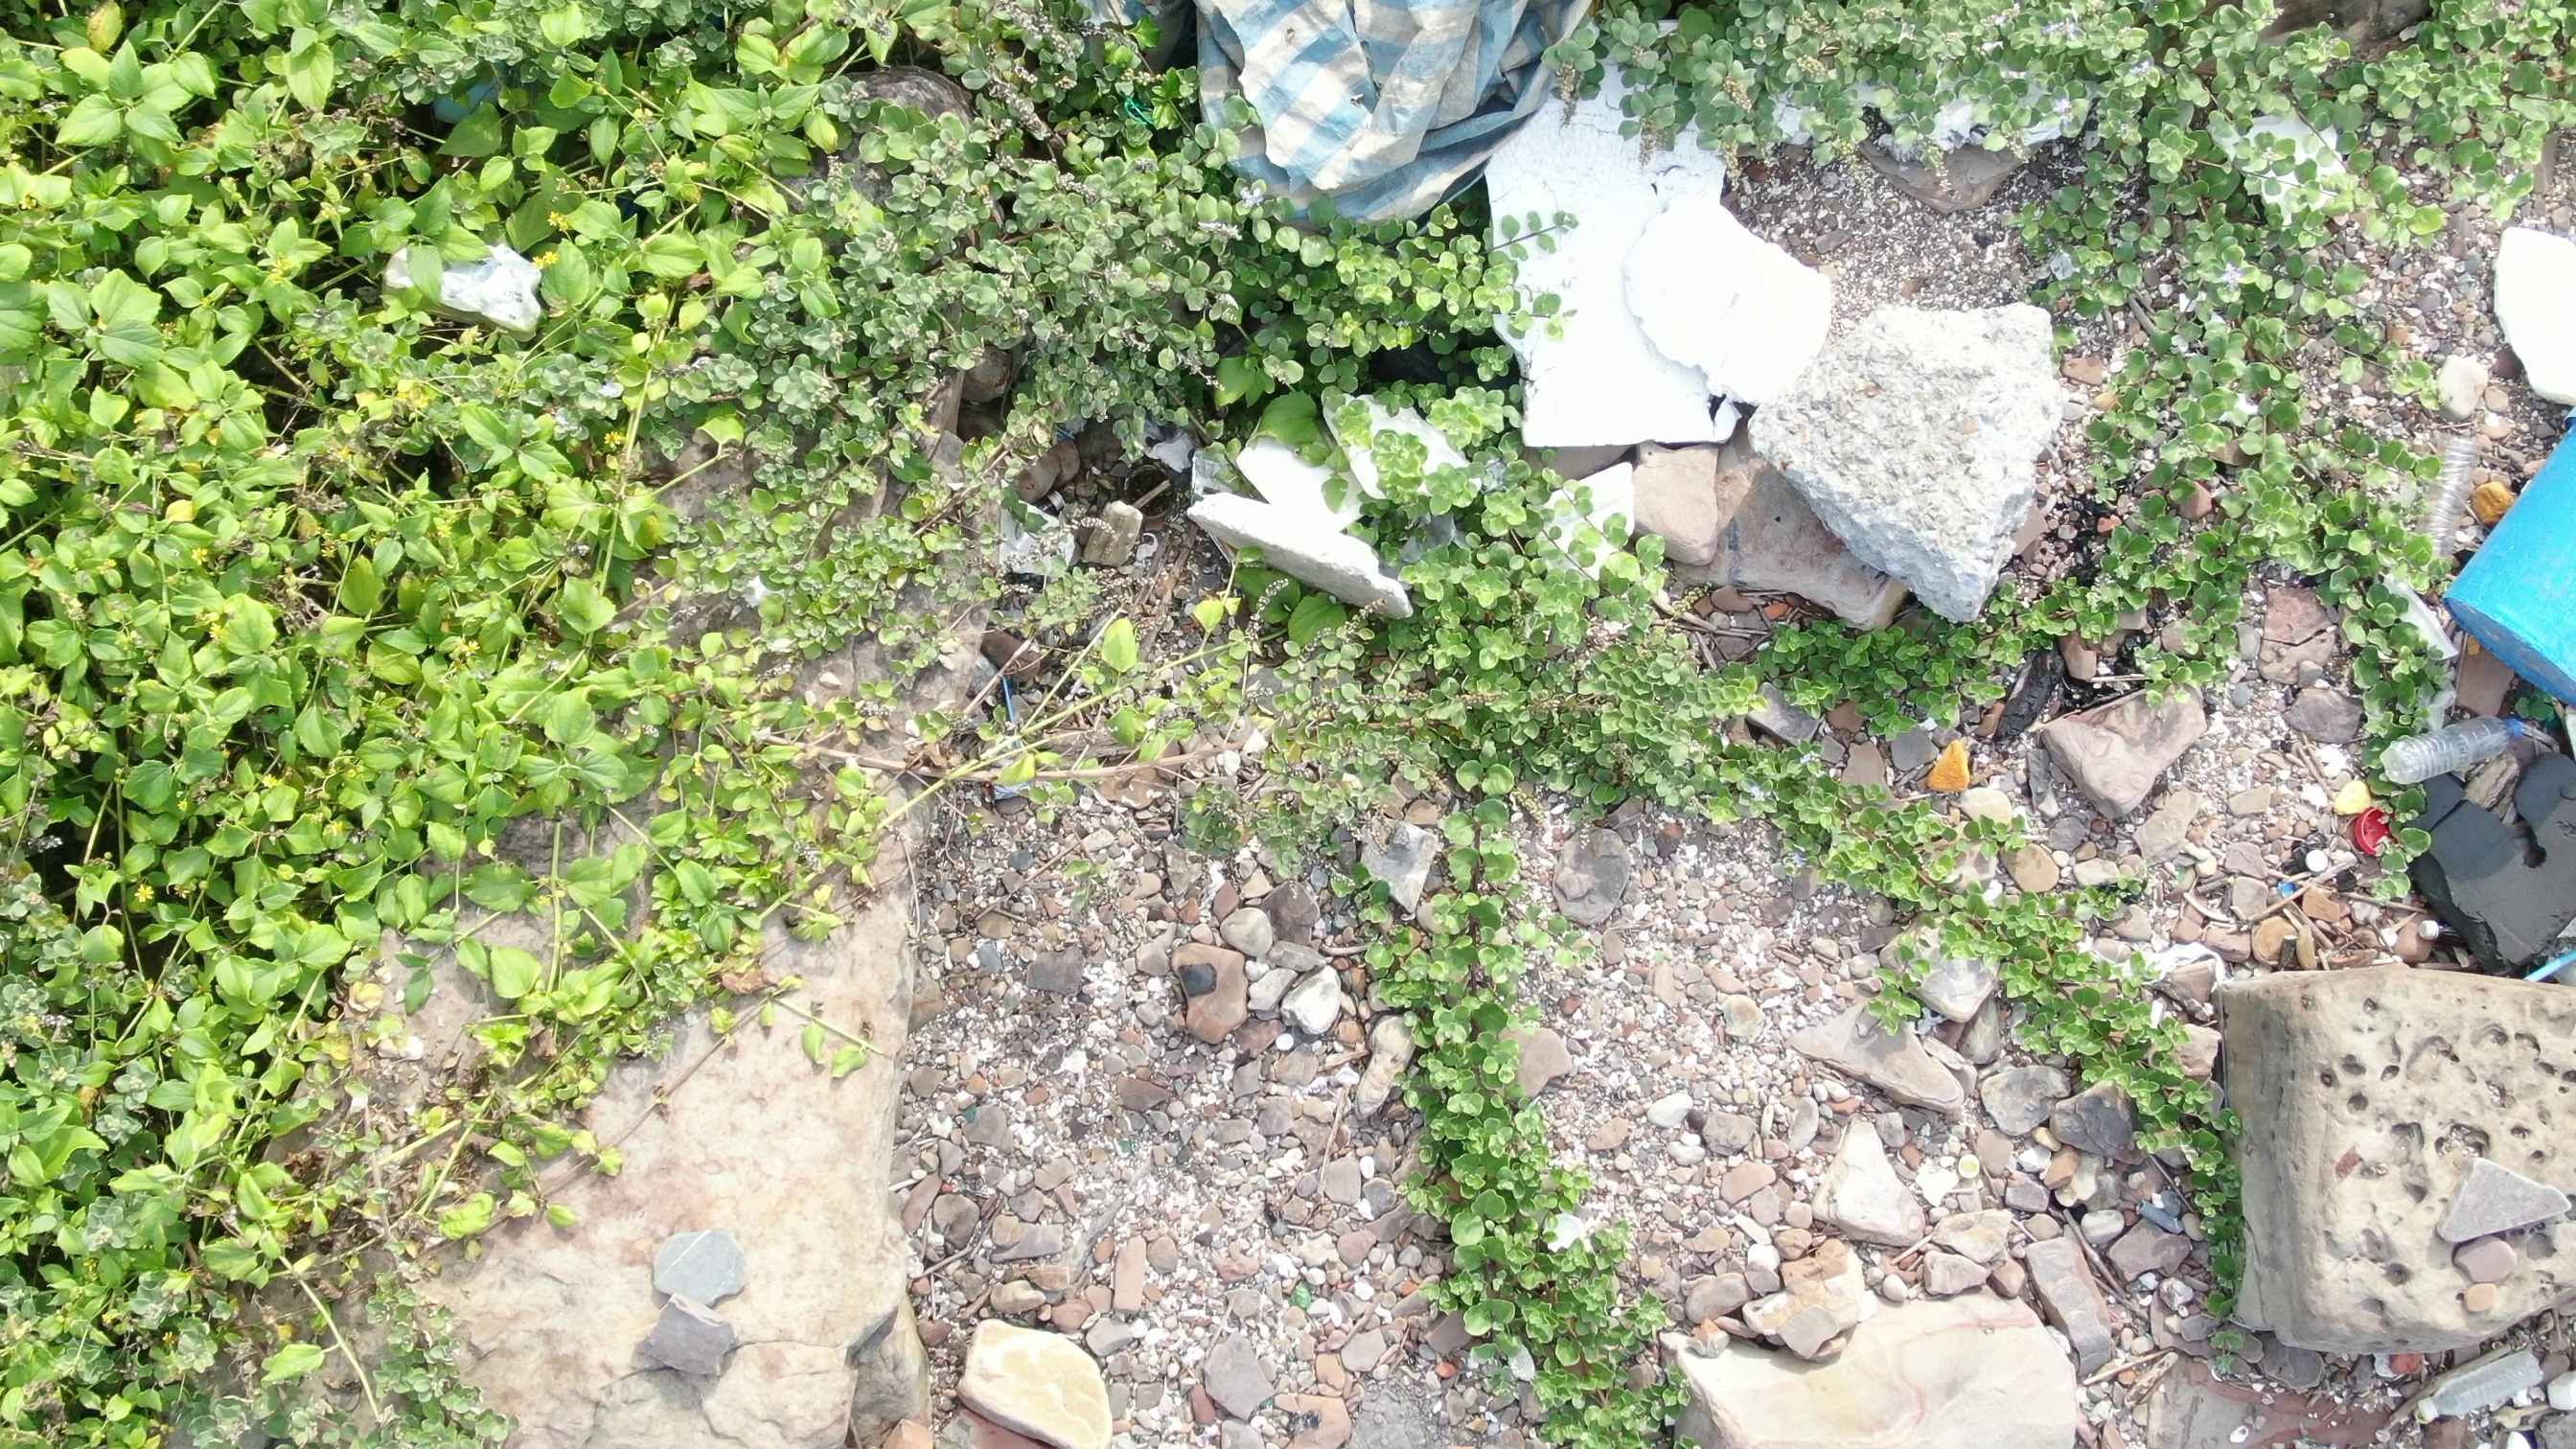bottle: (2397, 1336, 2546, 1435), (2376, 711, 2546, 796), (2406, 418, 2488, 586)
garbage: (2344, 193, 2576, 1003), (1499, 41, 1867, 495), (1189, 2, 1605, 257), (1152, 395, 1513, 612)
